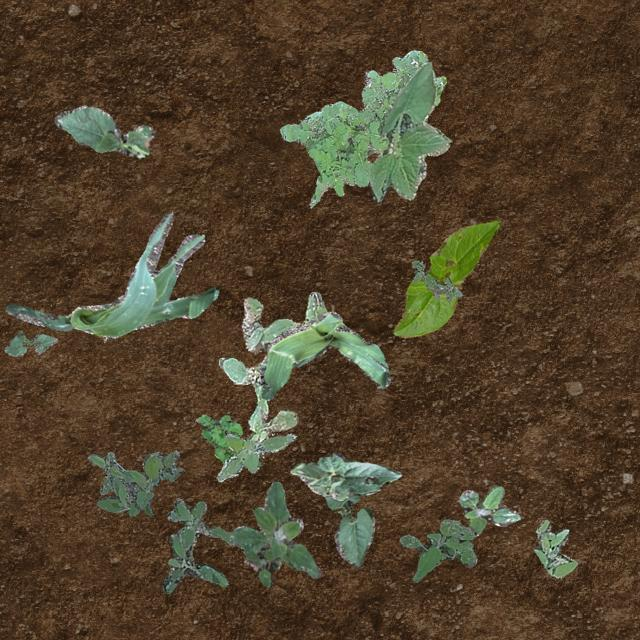crop: (4, 210, 218, 338), (392, 220, 498, 336), (368, 61, 450, 200), (258, 311, 389, 398), (290, 450, 400, 500), (52, 105, 154, 156), (324, 493, 374, 568), (4, 330, 56, 356)
weed: (278, 48, 446, 206), (218, 291, 326, 444), (228, 480, 320, 586), (162, 498, 234, 592), (86, 450, 182, 516), (398, 518, 476, 580), (217, 432, 296, 480), (456, 484, 518, 534), (532, 518, 576, 578), (194, 413, 242, 462), (410, 260, 460, 300)
